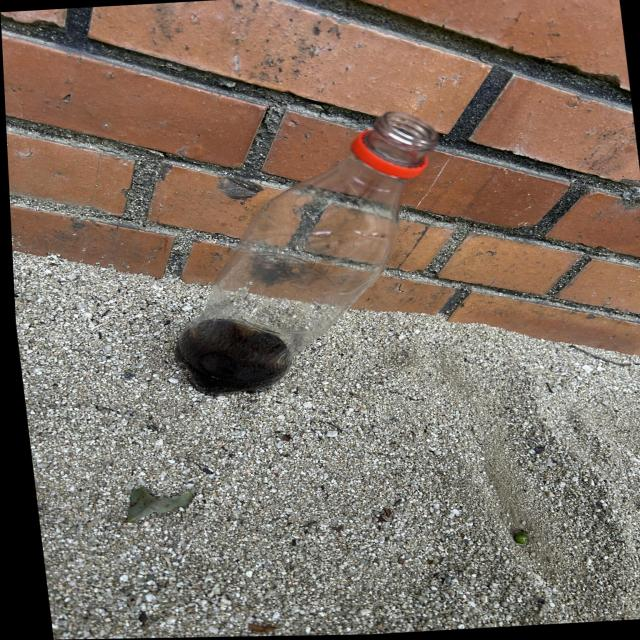low: (177, 112, 437, 394)
